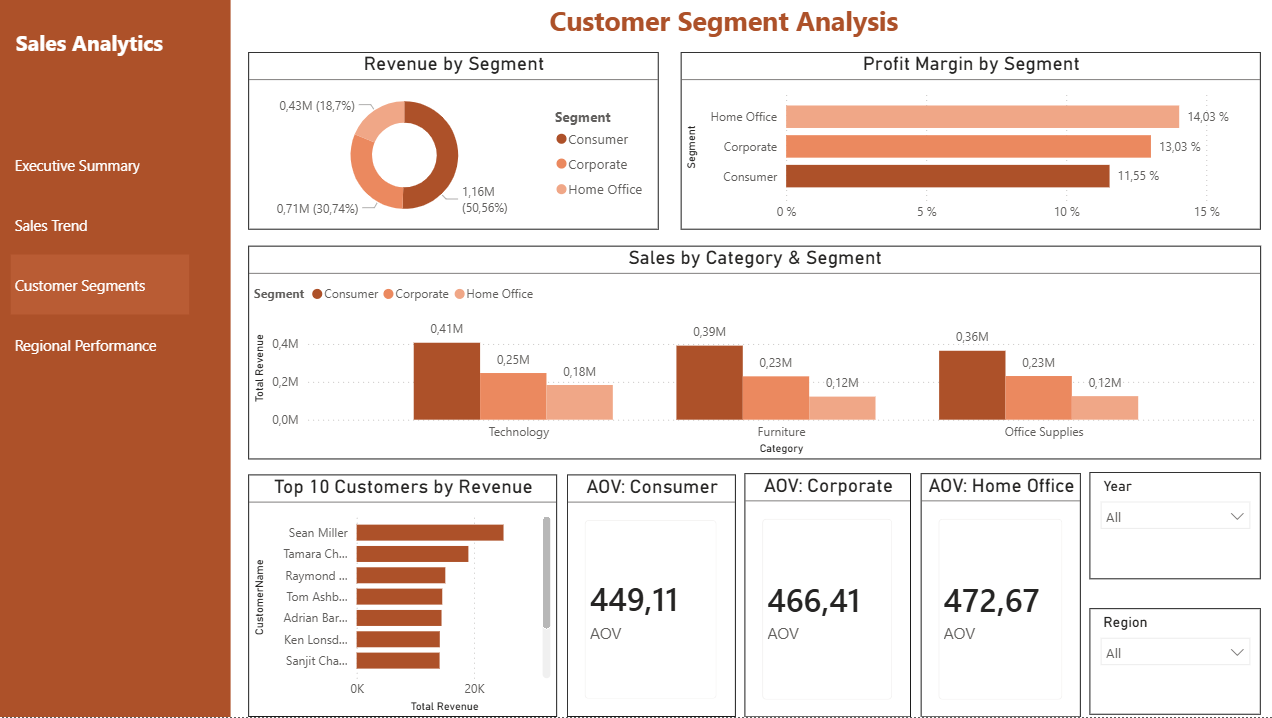

The dashboard page shown, as its layout file describes it:
{"tool":"powerbi","page":{"name":"Customer Segments","canvas":[1280,720],"ordinal":2},"visuals":[{"type":"textbox","box":[547.5,0,381.2,46.2],"z":0},{"type":"donutChart","title":"Revenue by Segment","fields":{"Category":["Superstore.Segment"],"Y":["Superstore.Total Revenue"]},"box":[251.2,55,410,177.5],"z":1000},{"type":"clusteredBarChart","title":"Profit Margin by Segment","fields":{"Category":["Superstore.Segment"],"Y":["Superstore.Profit Margin %"]},"box":[683.8,55,580,177.5],"z":2000},{"type":"clusteredColumnChart","title":"Sales by Category & Segment","fields":{"Category":["Superstore.Category"],"Y":["Superstore.Total Revenue"],"Series":["Superstore.Segment"]},"box":[251.2,248.8,1012.5,213.8],"z":3000},{"type":"clusteredBarChart","title":"Top 10 Customers by Revenue","fields":{"Category":["Superstore.CustomerName"],"Y":["Superstore.Total Revenue"]},"box":[251.2,477.5,308.8,242.5],"z":4000},{"type":"cardVisual","title":"AOV: Consumer","fields":{"Data":["Superstore.Average Order Value"]},"box":[570,477.5,168.8,242.5],"z":5000},{"type":"cardVisual","title":"AOV: Corporate","fields":{"Data":["Superstore.Average Order Value"]},"box":[747.5,476.2,166.2,243.8],"z":6000},{"type":"cardVisual","title":"AOV: Home Office","fields":{"Data":["Superstore.Average Order Value"]},"box":[923.8,476.2,160,243.8],"z":7000},{"type":"slicer","fields":{"Values":["DateTable.Year"]},"box":[1092.5,475,171.2,107.5],"z":8000},{"type":"slicer","fields":{"Values":["Superstore.Region"]},"box":[1092.5,611.2,171.2,106.2],"z":9000},{"type":"shape","box":[0,0,233.8,720],"z":10000},{"type":"textbox","box":[13.8,26.2,202.5,38.8],"z":11000},{"type":"actionButton","box":[13.8,137.5,178.8,60],"z":12000},{"type":"actionButton","box":[13.8,197.5,178.8,60],"z":13000},{"type":"actionButton","box":[13.8,257.5,178.8,60],"z":14000},{"type":"actionButton","box":[13.8,317.5,178.8,60],"z":15000}]}

Visuals, with their boxes on the page's 1280x720 design canvas (x1, y1, x2, y2). These are canvas units, not pixel positions in the 1272x718 screenshot, which may show the page scaled, cropped or inside an application window:
textbox: select_region(548, 0, 929, 46)
"Revenue by Segment" donutChart: select_region(251, 55, 661, 232)
"Profit Margin by Segment" clusteredBarChart: select_region(684, 55, 1264, 232)
"Sales by Category & Segment" clusteredColumnChart: select_region(251, 249, 1264, 463)
"Top 10 Customers by Revenue" clusteredBarChart: select_region(251, 478, 560, 720)
"AOV: Consumer" cardVisual: select_region(570, 478, 739, 720)
"AOV: Corporate" cardVisual: select_region(748, 476, 914, 720)
"AOV: Home Office" cardVisual: select_region(924, 476, 1084, 720)
slicer - DateTable.Year: select_region(1092, 475, 1264, 582)
slicer - Superstore.Region: select_region(1092, 611, 1264, 717)
shape: select_region(0, 0, 234, 720)
textbox: select_region(14, 26, 216, 65)
actionButton: select_region(14, 138, 193, 198)
actionButton: select_region(14, 198, 193, 258)
actionButton: select_region(14, 258, 193, 318)
actionButton: select_region(14, 318, 193, 378)
